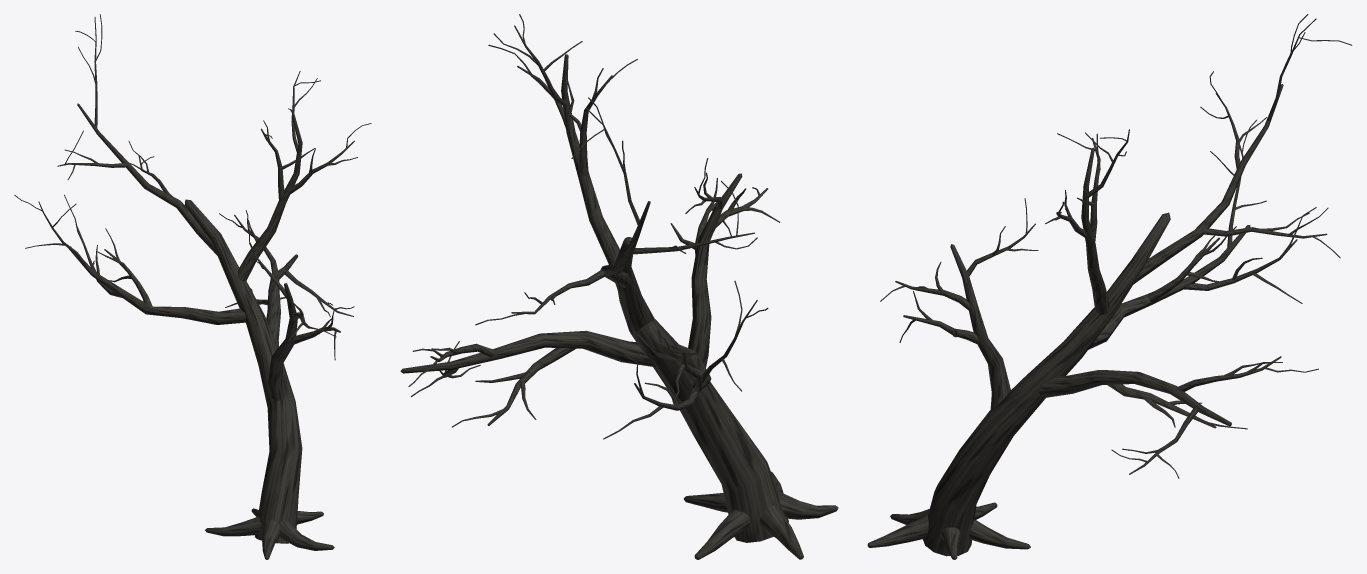
The model's file is GnarledDeadTree_1.gltf.
The picture shows the model from 3 angles, left to right: view 1: azimuth 30°, elevation 25°; view 2: azimuth 150°, elevation 25°; view 3: azimuth 270°, elevation 25°; orthographic projection. The views are drawn at different scales.
Parts seen in each view (by area): view 1: GnarledDeadTree_1; view 2: GnarledDeadTree_1; view 3: GnarledDeadTree_1.
Boxes of the visible parts, bbox=[...] form: GnarledDeadTree_1: bbox=[14, 14, 371, 559]; GnarledDeadTree_1: bbox=[400, 14, 838, 559]; GnarledDeadTree_1: bbox=[867, 14, 1352, 559].
Bounding box in the file's own units: 8.33 × 11.85 × 10.06.
Materials: 1 (1 with a texture image).
